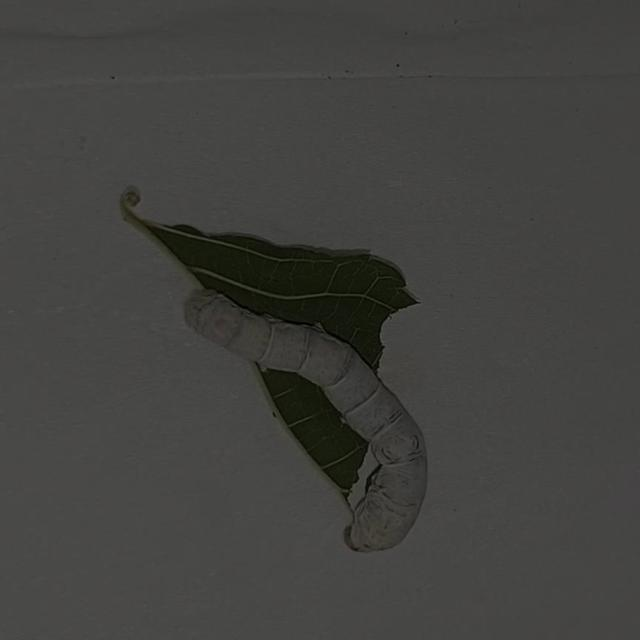Healthy: (153, 248, 450, 600)
